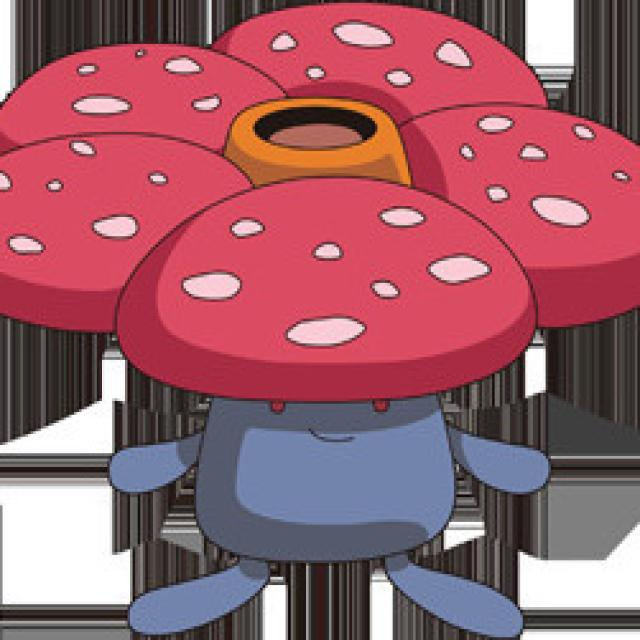Vileplume: (109, 43, 516, 613)
